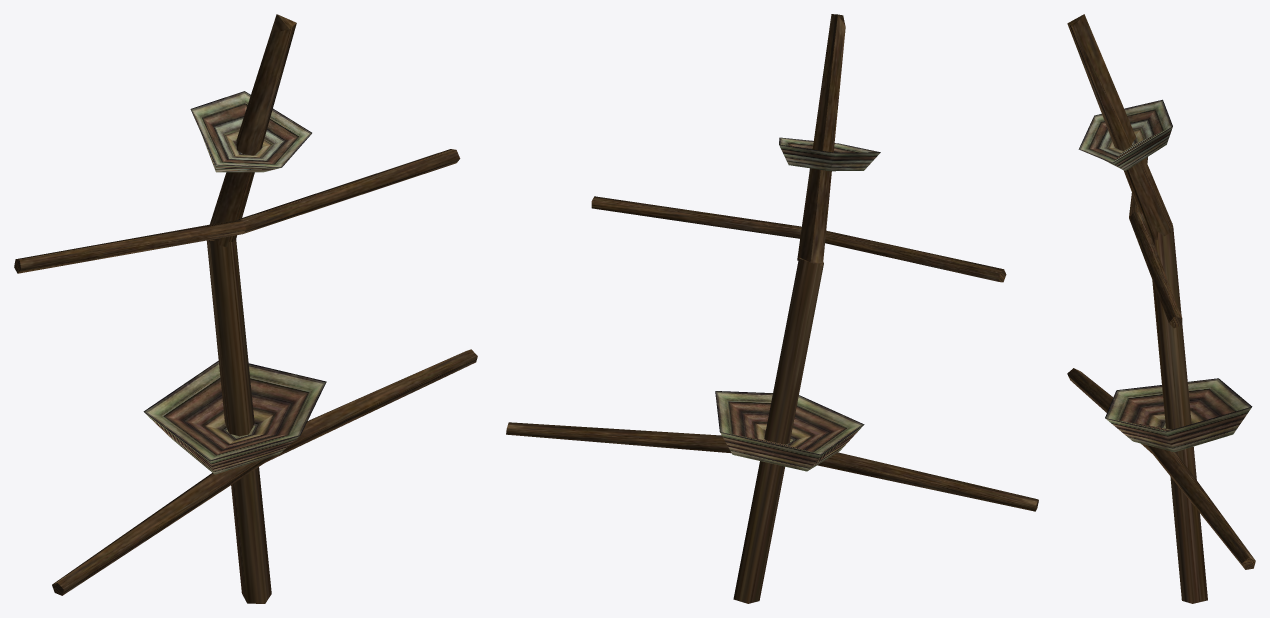
Rendered from pir_m_shp_wrk_mastA.fbx.
3 views of the same model, side by side, from view 1: azimuth 30°, elevation 25°; view 2: azimuth 150°, elevation 25°; view 3: azimuth 270°, elevation 25° (orthographic). The views are drawn at different scales.
Visible parts, largest first — view 1: crowsnest_1, mast_1, boom_1, boom_2, crowsnest_2, mast_2; view 2: mast_1, crowsnest_1, boom_1, boom_2, mast_2, crowsnest_2; view 3: mast_1, crowsnest_1, mast_2, crowsnest_2, boom_1, boom_2.
Part boxes in pixels (<box>): crowsnest_1: <box>143,361,326,474</box>; mast_1: <box>207,239,271,603</box>; boom_1: <box>52,349,477,595</box>; boom_2: <box>14,149,460,273</box>; crowsnest_2: <box>190,91,311,172</box>; mast_2: <box>208,14,296,247</box>; mast_1: <box>733,257,823,603</box>; crowsnest_1: <box>715,391,864,471</box>; boom_1: <box>506,422,1038,511</box>; boom_2: <box>591,196,1006,282</box>; mast_2: <box>797,14,845,265</box>; crowsnest_2: <box>779,137,880,171</box>; mast_1: <box>1151,223,1207,603</box>; crowsnest_1: <box>1105,378,1252,452</box>; mast_2: <box>1067,14,1172,239</box>; crowsnest_2: <box>1078,99,1172,170</box>; boom_1: <box>1067,368,1255,569</box>; boom_2: <box>1129,157,1182,328</box>.
Size of the model in its own units: 10787 by 12772 by 3846.
1 material, 1 textured.
